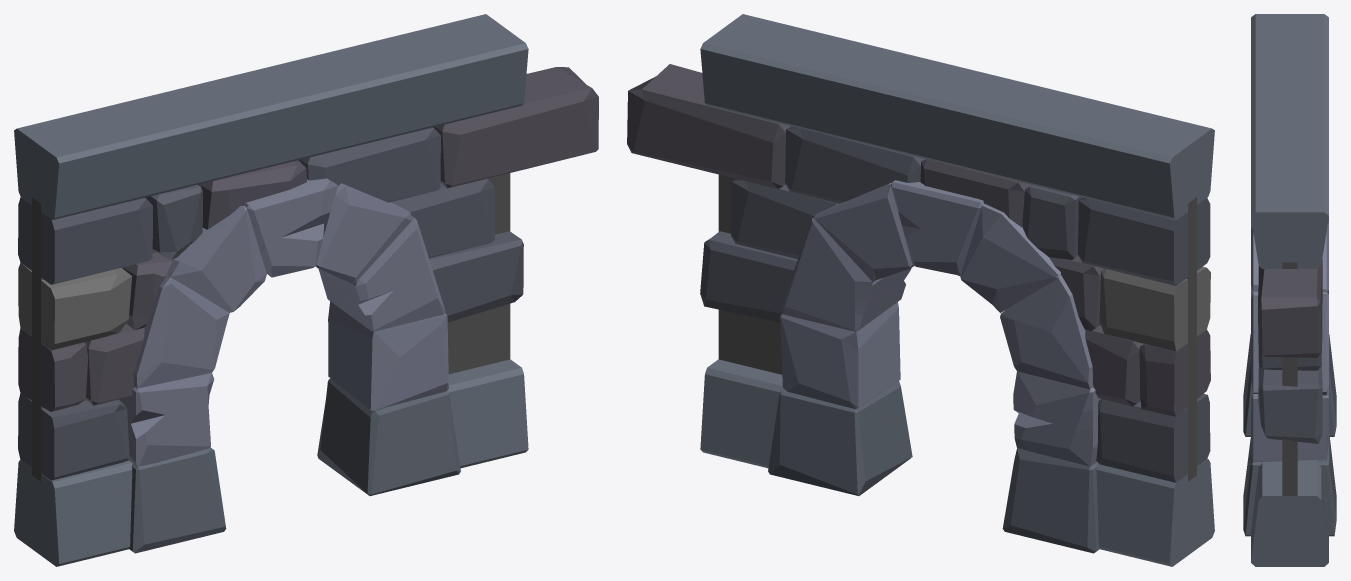
Rendered from Brick_Wall_Door_Right.fbx.
3 renders of one model, left to right at view 1: azimuth 30°, elevation 25°; view 2: azimuth 150°, elevation 25°; view 3: azimuth 270°, elevation 25°, orthographic. The views are drawn at different scales.
Visible parts, largest first — view 1: Muro_Puerta_Ladrillo_Der; view 2: Muro_Puerta_Ladrillo_Der; view 3: Muro_Puerta_Ladrillo_Der.
Part boxes in pixels (bbox=[...]): Muro_Puerta_Ladrillo_Der: bbox=[14, 14, 598, 566]; Muro_Puerta_Ladrillo_Der: bbox=[627, 14, 1214, 566]; Muro_Puerta_Ladrillo_Der: bbox=[1243, 14, 1336, 566].
Bounding box in the file's own units: 702 × 500 × 119.
